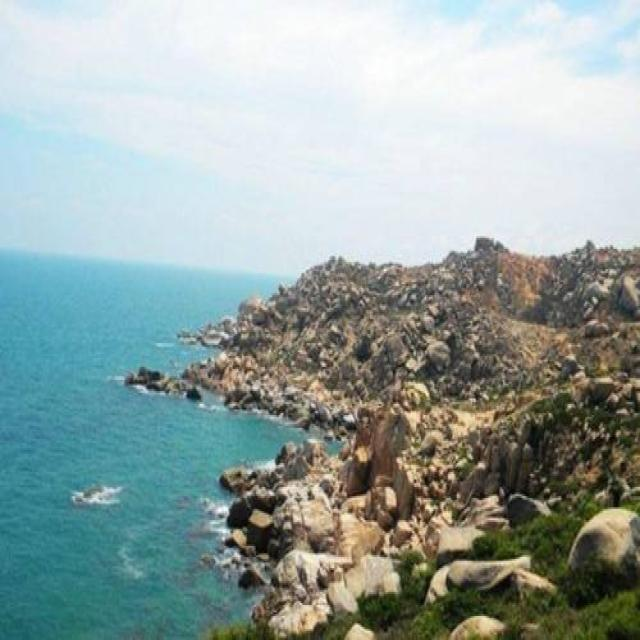reef: (196, 436, 406, 620), (180, 329, 316, 432)
